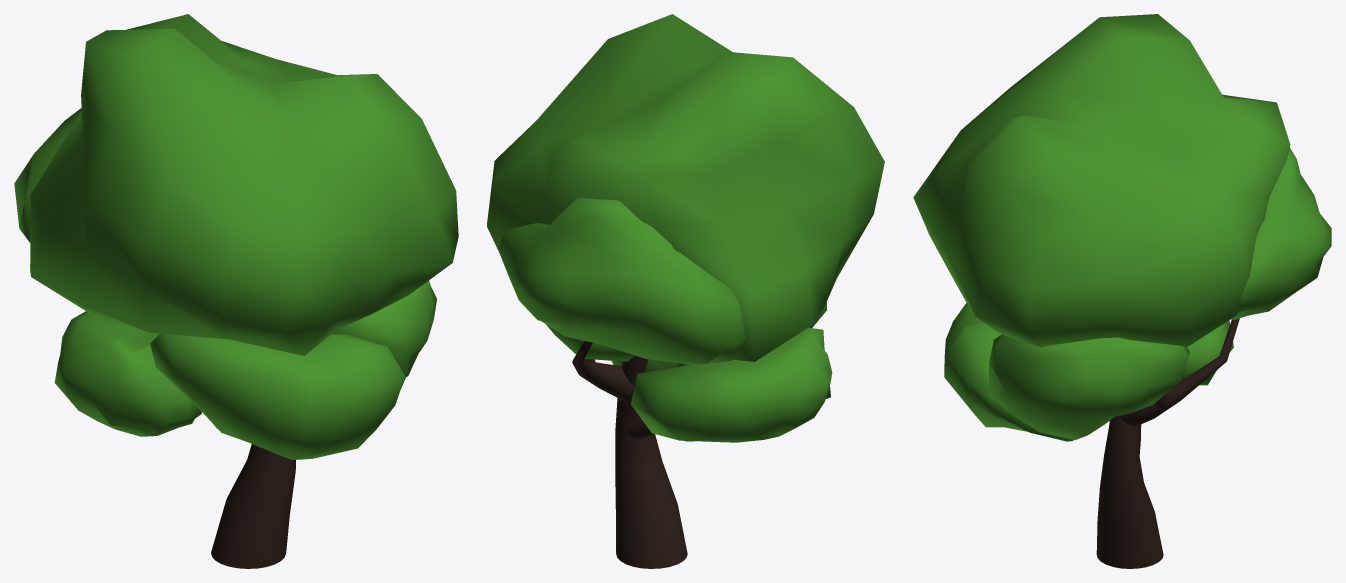
Rendered from TREE_01.glb.
The picture shows the model from 3 angles, left to right: view 1: azimuth 30°, elevation 25°; view 2: azimuth 150°, elevation 25°; view 3: azimuth 270°, elevation 25°; orthographic projection. The views are drawn at different scales.
Visible parts, largest first — view 1: TREE_1_LEAVES, TREE_1-COL; view 2: TREE_1_LEAVES, TREE_1-COL; view 3: TREE_1_LEAVES, TREE_1-COL.
Part boxes in pixels (x1,y1,x2,y2): TREE_1_LEAVES: (14,14,458,459); TREE_1-COL: (211,444,295,568); TREE_1_LEAVES: (487,14,884,442); TREE_1-COL: (572,341,687,568); TREE_1_LEAVES: (913,14,1331,441); TREE_1-COL: (1096,318,1239,568).
Bounding box in the file's own units: 10.6 × 15.96 × 12.49.
